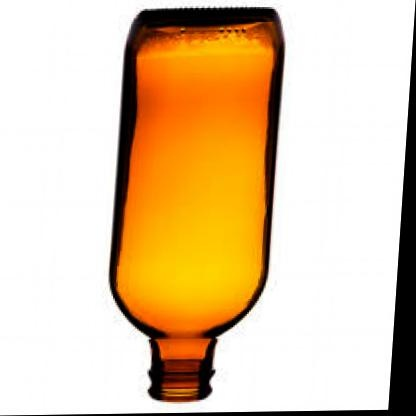trash: (110, 8, 283, 401)
